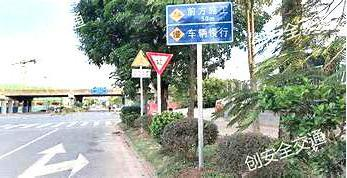sign: (165, 2, 234, 45)
